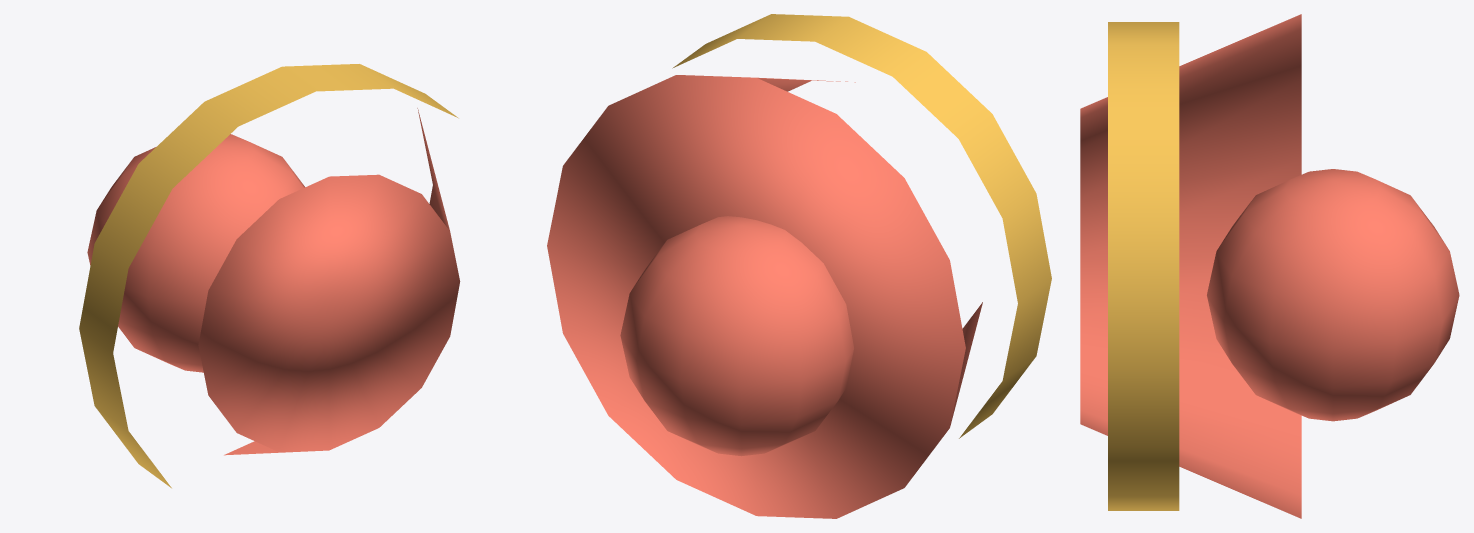
Rendered from snake_red_tail.glb.
3 renders of one model, left to right at view 1: azimuth 30°, elevation 25°; view 2: azimuth 150°, elevation 25°; view 3: azimuth 270°, elevation 25°, orthographic. The views are drawn at different scales.
Bounding box in the file's own units: 0.64 × 0.64 × 0.48.
